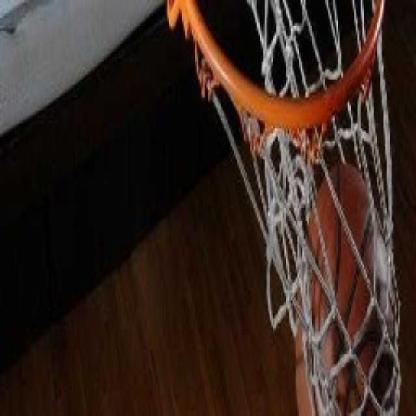basketball: (292, 159, 402, 416)
